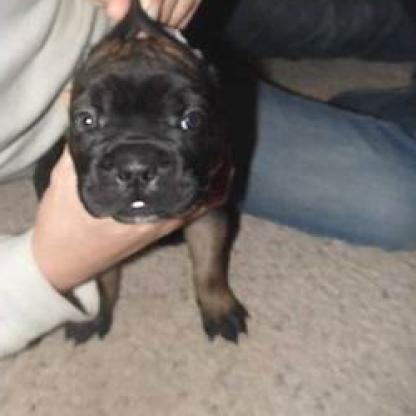dog: (33, 0, 248, 346)
